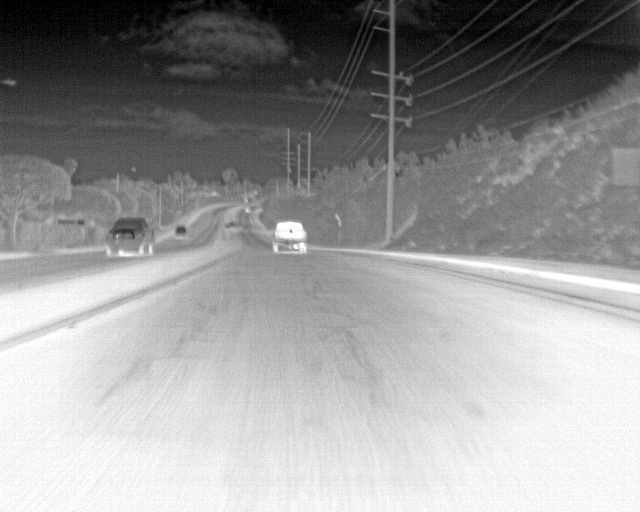vehicle: (105, 216, 156, 258), (274, 220, 307, 254)
